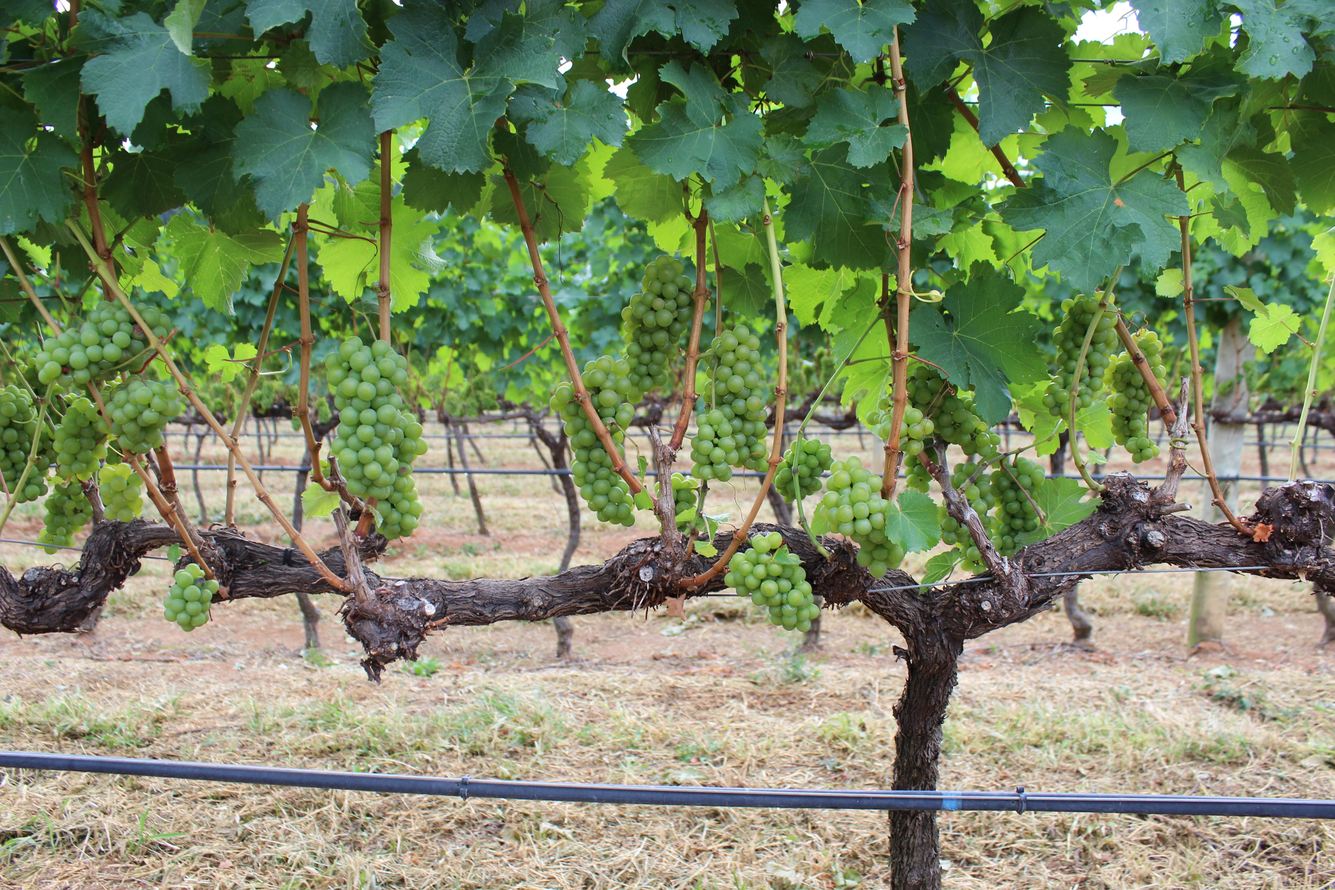leaf: (1001, 127, 1189, 292), (371, 2, 513, 173), (906, 0, 1071, 145), (910, 266, 1047, 425), (233, 82, 374, 220), (75, 10, 210, 135), (627, 60, 763, 182), (784, 144, 887, 269), (174, 94, 265, 235), (163, 213, 284, 314), (588, 0, 738, 70), (1112, 72, 1239, 152), (0, 106, 78, 235), (803, 84, 908, 167), (526, 80, 627, 166), (246, 0, 371, 68), (793, 0, 915, 62), (1231, 0, 1316, 80), (390, 196, 443, 312), (603, 146, 683, 222), (1015, 476, 1099, 546), (101, 150, 186, 219), (518, 161, 589, 242), (1131, 0, 1222, 63), (402, 147, 486, 214), (23, 56, 82, 145), (760, 34, 823, 107), (1290, 116, 1335, 212), (318, 238, 380, 301), (884, 488, 940, 552), (203, 342, 258, 383), (492, 177, 519, 227), (302, 485, 340, 518), (804, 7, 805, 9)
